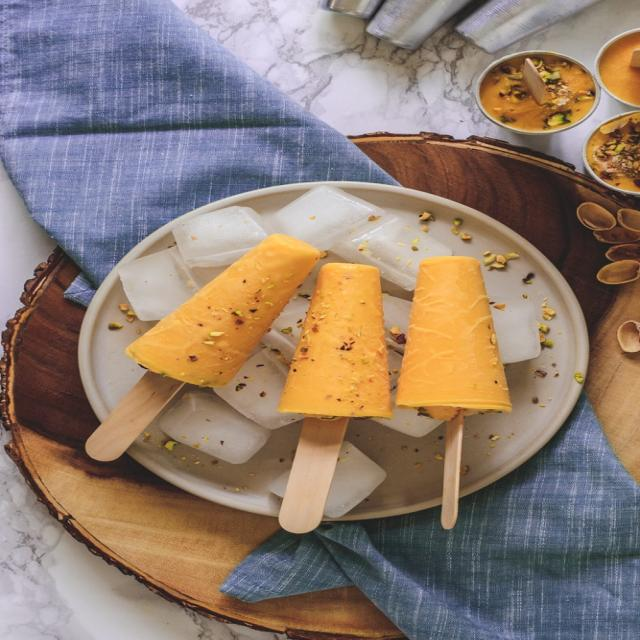kulfi: (102, 230, 543, 432)
